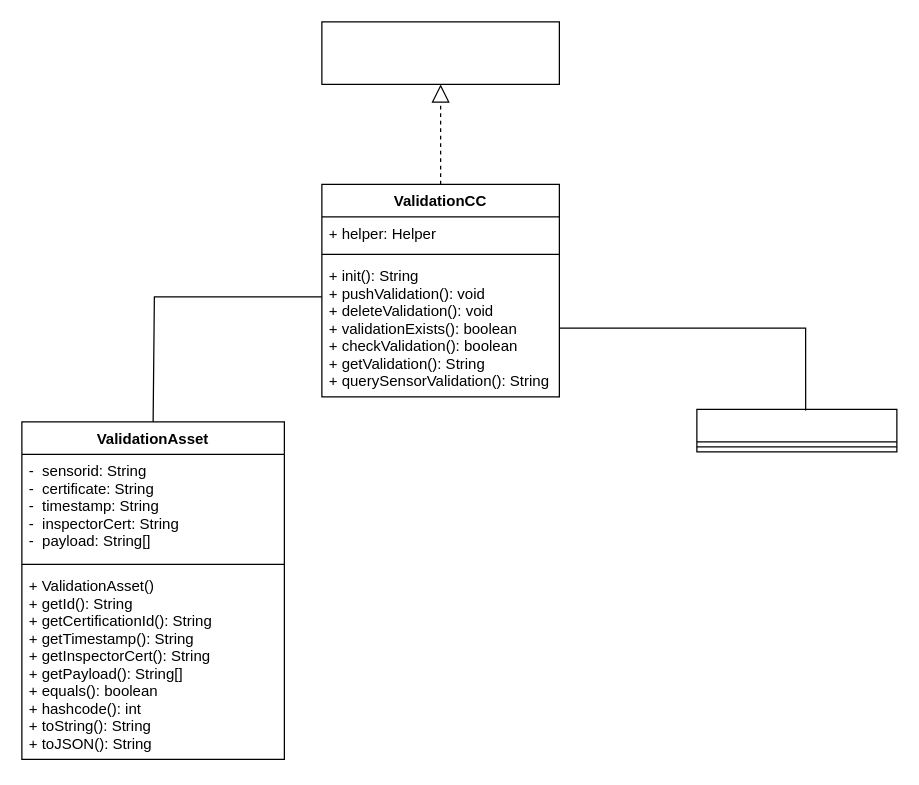
Some shapes in this 919 by 785 pixel diagram are drawn without their labels. The centre of each missing label's shape, as x and y in pixels:
<<Interface>> ChaincodeContract: (440,52)
Helper: (796,430)
